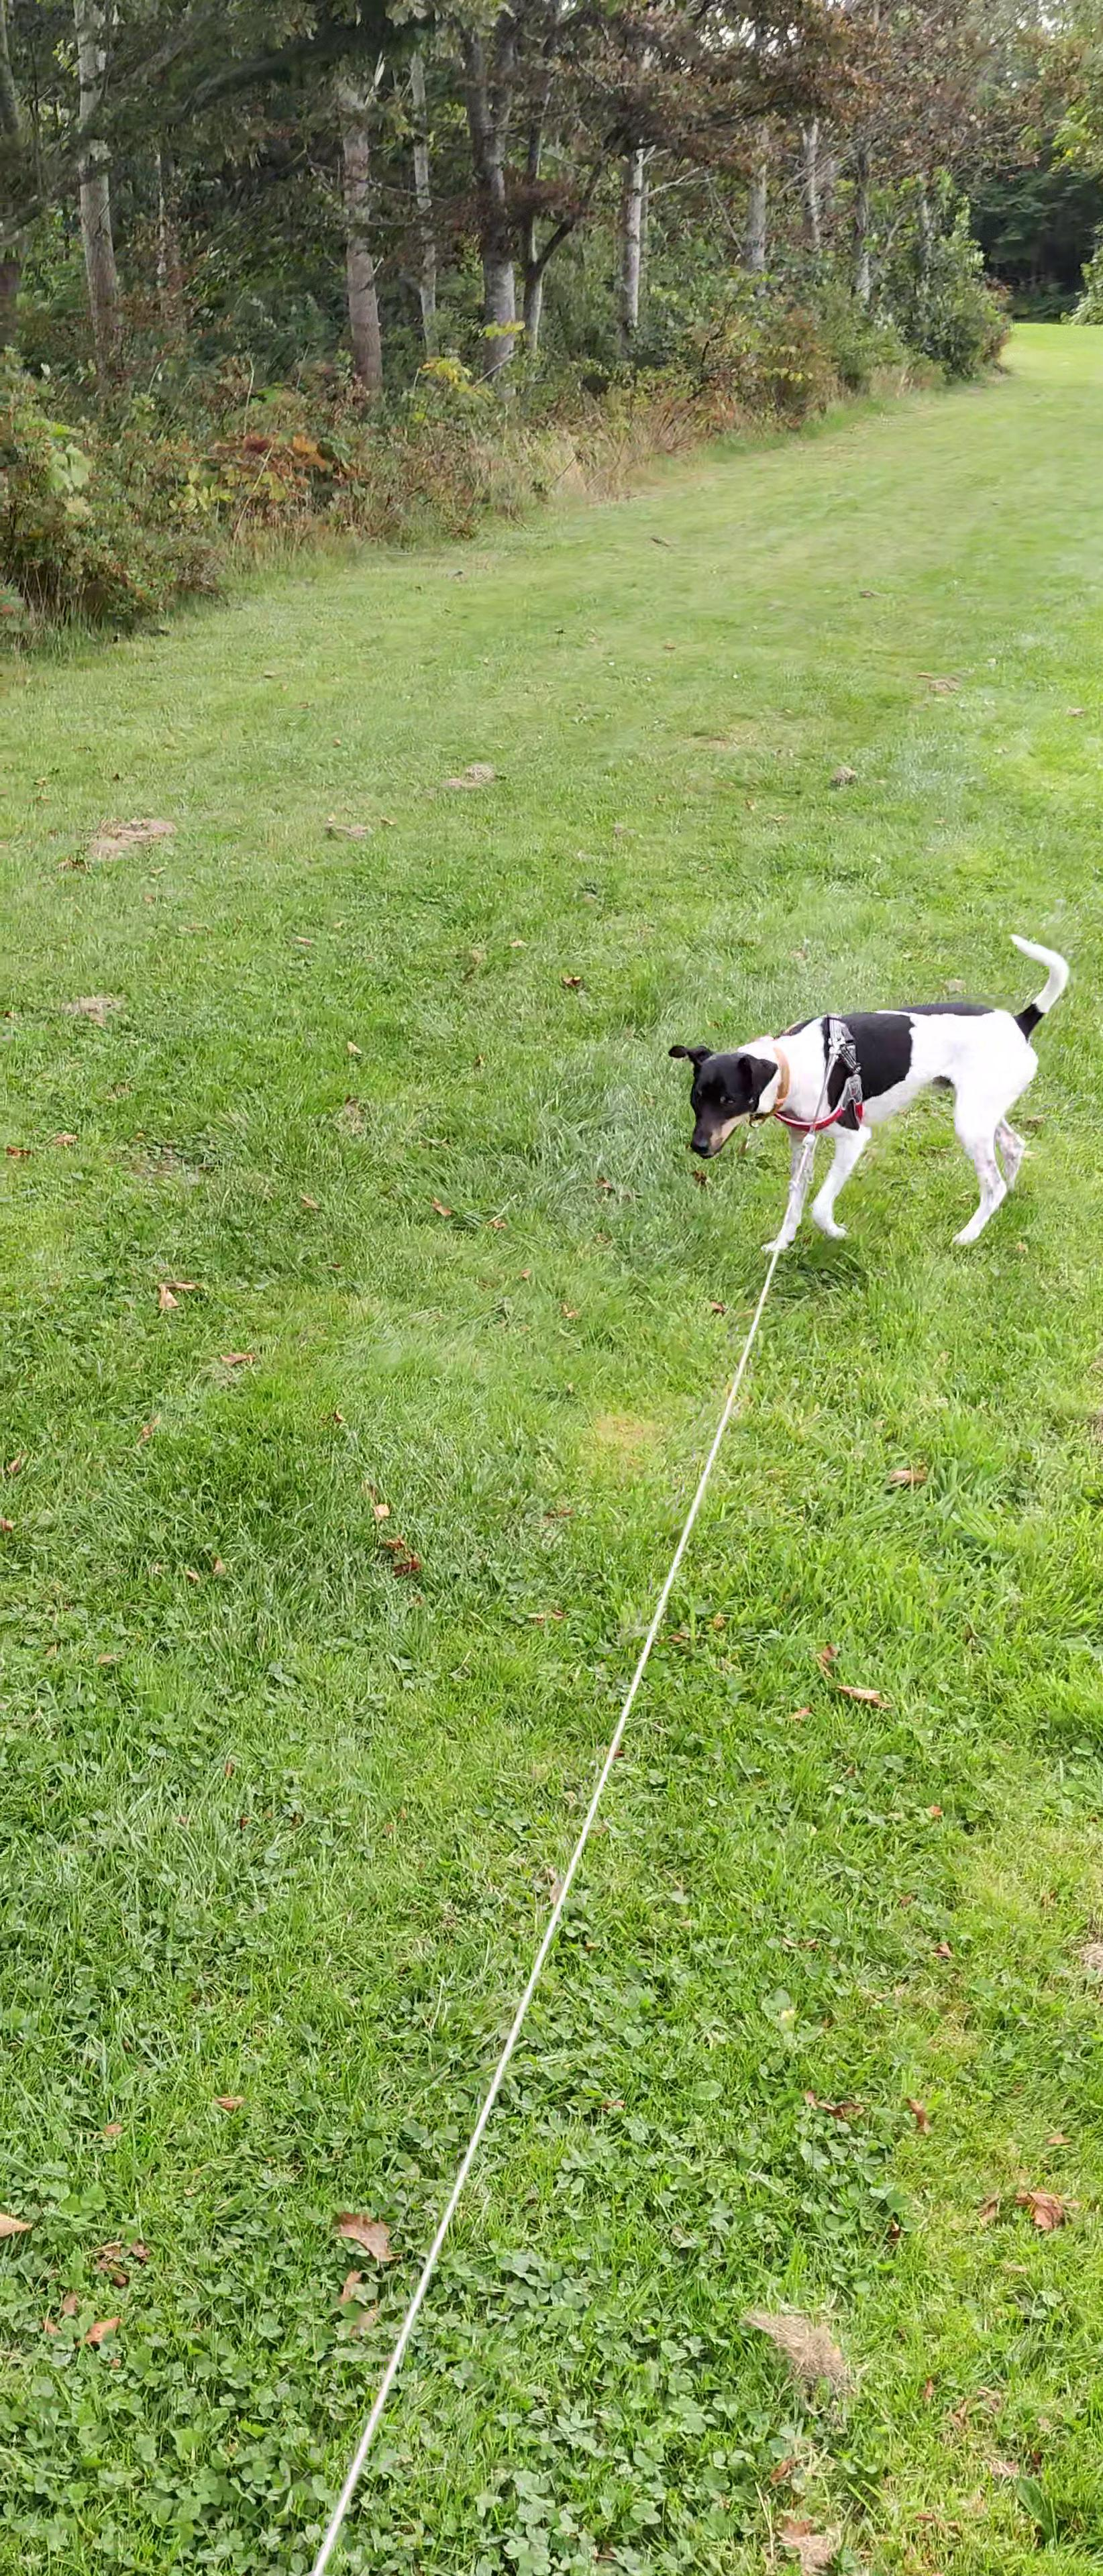Dog: (662, 930, 1072, 1253)
